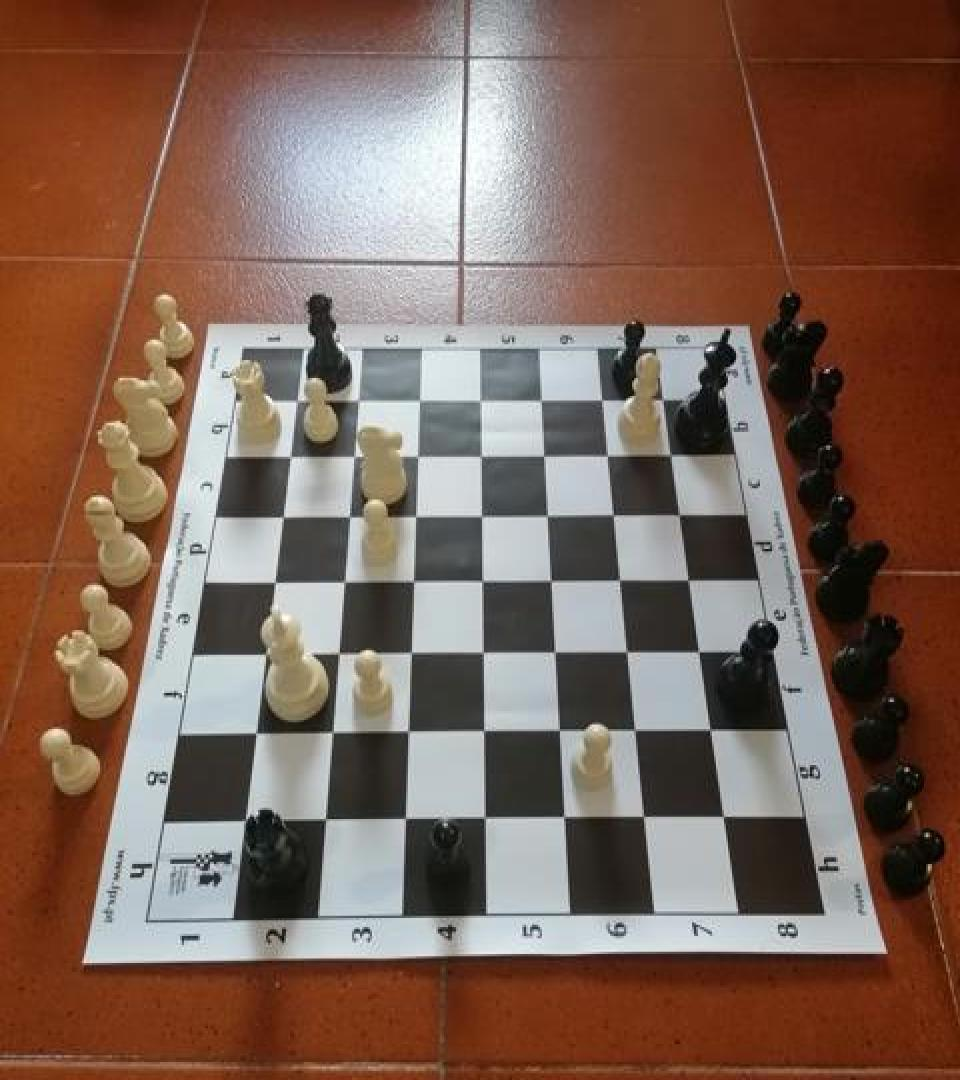xcorner: (653, 387, 681, 419), (592, 387, 620, 419), (530, 387, 558, 419), (469, 387, 497, 419), (407, 387, 435, 419), (345, 387, 373, 419), (283, 387, 311, 419), (661, 443, 689, 475), (597, 443, 625, 475), (533, 443, 561, 475), (469, 443, 497, 475), (405, 443, 433, 475), (341, 443, 369, 475), (276, 443, 304, 475), (537, 504, 565, 536), (470, 504, 498, 536), (403, 504, 431, 536), (336, 504, 364, 536), (269, 504, 297, 536), (679, 568, 707, 600), (610, 569, 638, 601), (540, 569, 568, 601), (471, 569, 499, 601), (401, 570, 429, 602), (331, 570, 359, 602), (260, 570, 288, 602), (689, 640, 717, 672), (617, 640, 645, 672), (544, 641, 572, 673), (472, 641, 500, 673), (398, 642, 426, 674), (325, 642, 353, 674), (252, 642, 280, 674), (549, 720, 577, 752), (472, 720, 500, 752), (396, 721, 424, 753), (319, 721, 347, 753), (242, 722, 270, 754), (713, 804, 741, 836), (633, 805, 661, 837), (553, 805, 581, 837), (670, 503, 698, 534), (603, 503, 631, 534), (701, 718, 729, 749), (625, 719, 653, 750), (473, 807, 501, 838), (393, 808, 421, 839), (312, 809, 340, 840), (231, 809, 259, 840)
